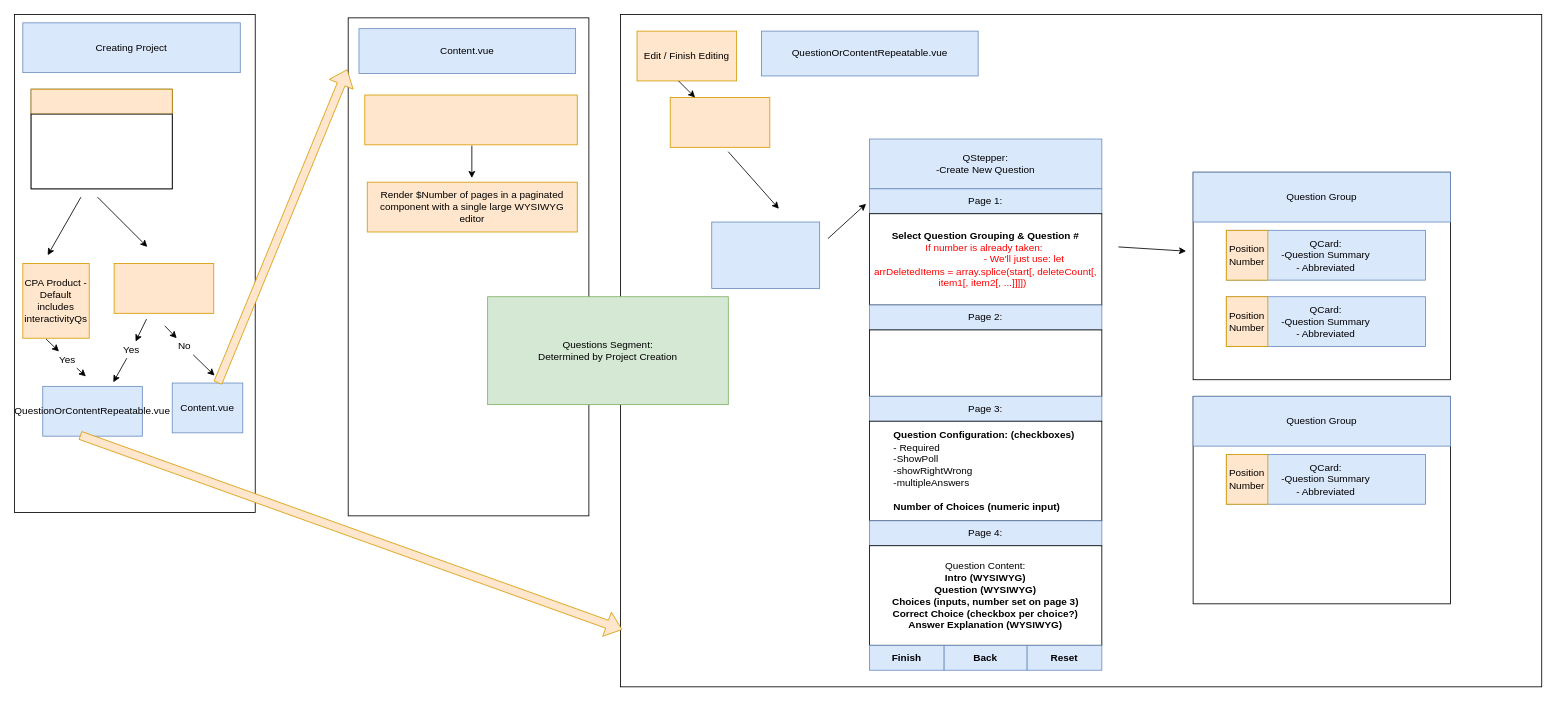
The diagram is 1556 pixels wide and 701 high, and some of its shapes have lost their labels. Here are the shapes that lost their labels. From the top down, the box of each, then its label:
(30, 88, 172, 114): 1) Choose Product Type
(364, 94, 577, 145): Set $Number of pages with numeric input, disable input on blur
(669, 97, 770, 147): + Add Question Button
(30, 113, 172, 189): Dropdown Menu/Select.
(711, 221, 820, 288): Dialog: Create New Group or add to existing group
(113, 263, 214, 313): Does this project include interactivity Questions? Radio: Y / N
(869, 329, 1102, 396): Select Question Type: (radio) standard matrix demo confidence
